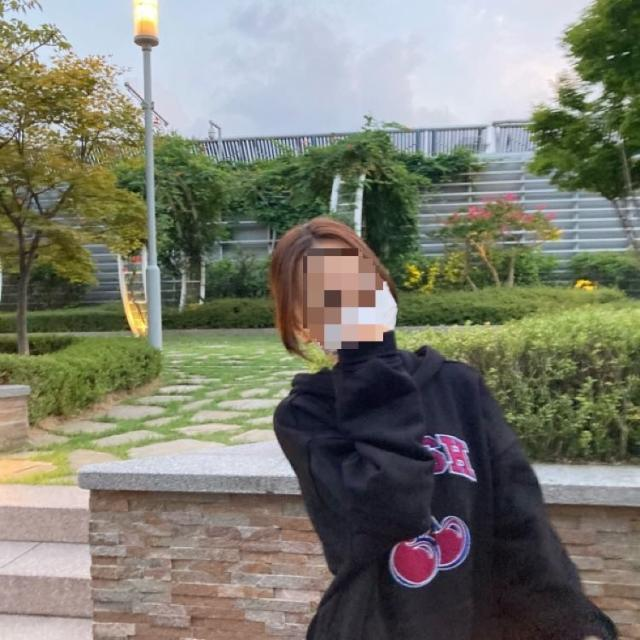hoodies: (274, 345, 616, 640)
